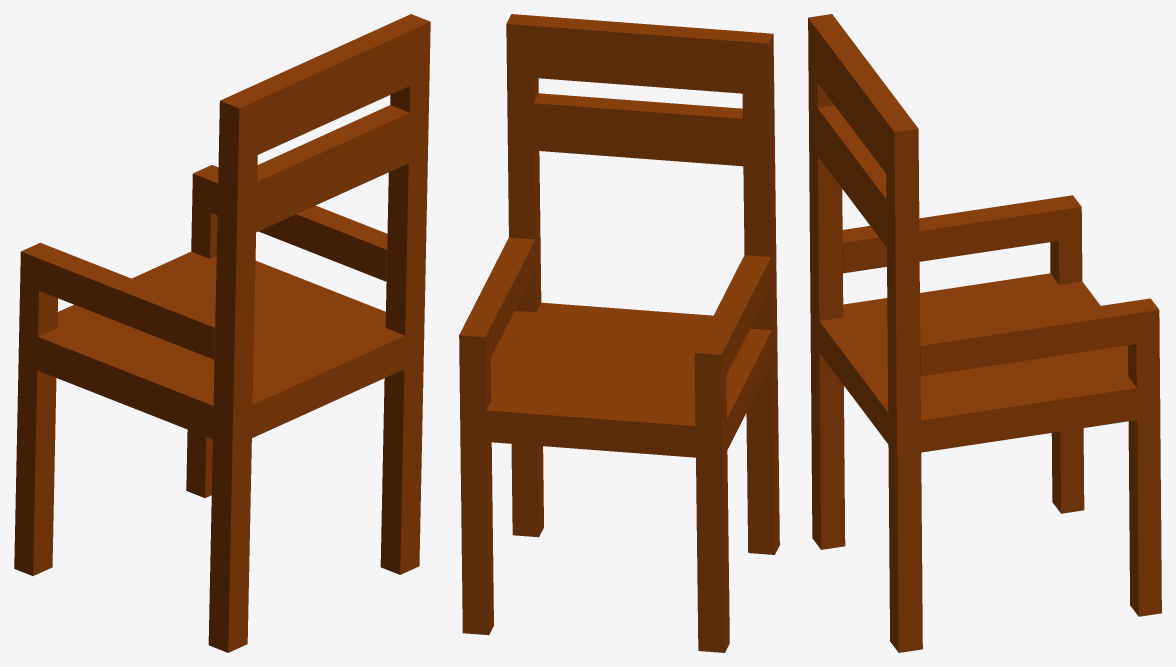
File: kursii.glb
3 views of the same model, side by side, from view 1: azimuth 30°, elevation 25°; view 2: azimuth 150°, elevation 25°; view 3: azimuth 270°, elevation 25° (orthographic). The views are drawn at different scales.
Visible parts, largest first — view 1: Cube; view 2: Cube; view 3: Cube.
Part boxes in pixels (x1,y1,x2,y2): Cube: (14, 14, 430, 652); Cube: (459, 14, 779, 652); Cube: (808, 14, 1161, 652).
Bounding box in the file's own units: 2.6 × 4.21 × 2.56.
1 material, 1 textured.
